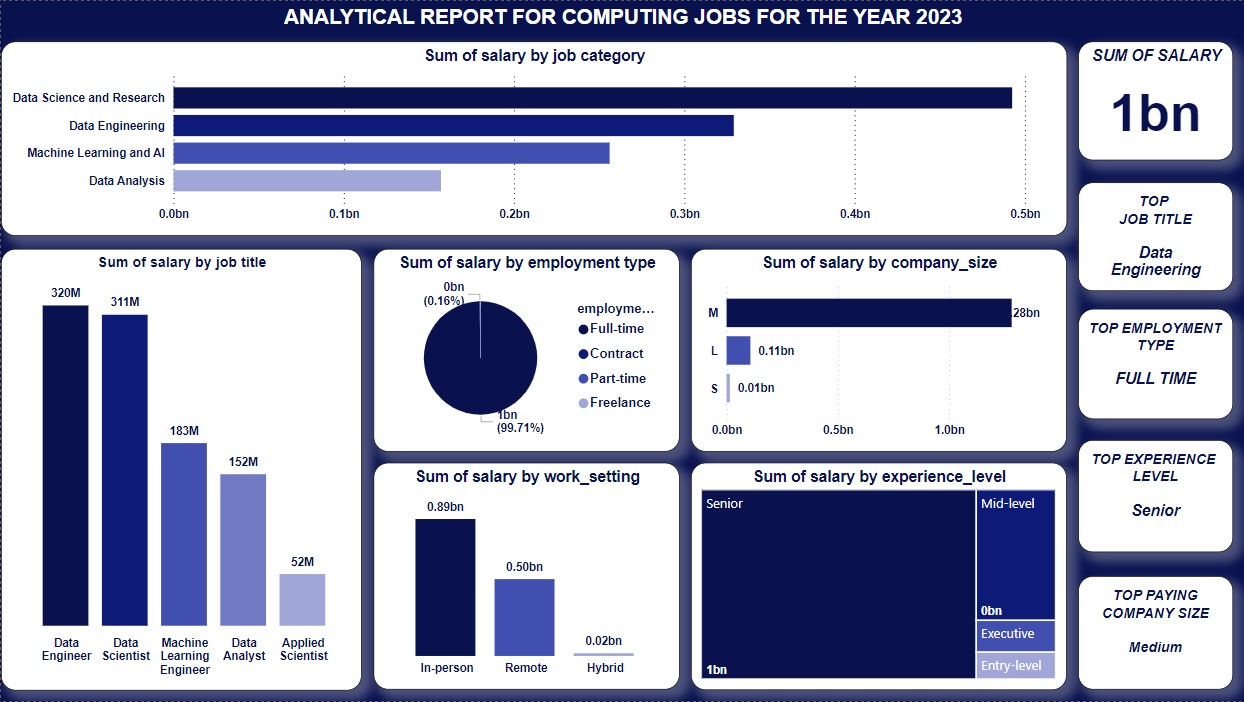

Layout of this report page (visuals, bound fields, positions):
{"tool":"powerbi","page":{"name":"Page 1","canvas":[1280,720],"ordinal":0},"visuals":[{"type":"barChart","title":"Sum of salary by job category","fields":{"Category":["jobs_in_data.job_category"],"Y":["Sum(jobs_in_data.salary)"]},"box":[0,42.4,1096.6,200],"z":0},{"type":"textbox","box":[0,0,1280.1,42.6],"z":1000},{"type":"treemap","fields":{"Values":["Sum(jobs_in_data.salary)"],"Group":["jobs_in_data.experience_level"]},"box":[710.2,474.6,386.4,233.9],"z":2000},{"type":"barChart","fields":{"Category":["jobs_in_data.company_size"],"Y":["Sum(jobs_in_data.salary)"]},"box":[710.2,254.2,386.4,208.5],"z":3000},{"type":"pieChart","title":"Sum of salary by employment type","fields":{"Category":["jobs_in_data.employment_type"],"Y":["Sum(jobs_in_data.salary)"]},"box":[383.3,255,315,208.3],"z":4000},{"type":"columnChart","title":"Sum of salary by job title","fields":{"Category":["jobs_in_data.job_title"],"Y":["Sum(jobs_in_data.salary)"]},"box":[0,254.2,371.2,454.2],"z":5000},{"type":"card","title":"SUM OF SALARY","fields":{"Values":["Sum(jobs_in_data.salary)"]},"box":[1108.5,42.4,159.3,122],"z":6000},{"type":"textbox","box":[1108.5,186.4,159.3,111.9],"z":7000},{"type":"textbox","box":[1108.5,316.9,159.3,113.6],"z":8000},{"type":"textbox","box":[1108.5,450.8,159.3,115.3],"z":9000},{"type":"textbox","box":[1108.5,591.5,159.3,116.9],"z":10000},{"type":"clusteredColumnChart","title":"Sum of salary by work setting","fields":{"Category":["jobs_in_data.work_setting"],"Y":["Sum(jobs_in_data.salary)"]},"box":[383.3,475,315,233.3],"z":10001}]}

Visuals, with their boxes in screenshot pixels (x1, y1, x2, y2), scaled from the page's 1280x720 canvas onto the 1244x702 screenshot:
"Sum of salary by job category" barChart: box=[0, 41, 1066, 236]
textbox: box=[0, 0, 1243, 42]
treemap - Sum(jobs_in_data.salary) x jobs_in_data.experience_level: box=[690, 463, 1066, 691]
barChart - jobs_in_data.company_size x Sum(jobs_in_data.salary): box=[690, 248, 1066, 451]
"Sum of salary by employment type" pieChart: box=[373, 249, 679, 452]
"Sum of salary by job title" columnChart: box=[0, 248, 361, 691]
"SUM OF SALARY" card: box=[1077, 41, 1232, 160]
textbox: box=[1077, 182, 1232, 291]
textbox: box=[1077, 309, 1232, 420]
textbox: box=[1077, 440, 1232, 552]
textbox: box=[1077, 577, 1232, 691]
"Sum of salary by work setting" clusteredColumnChart: box=[373, 463, 679, 691]
